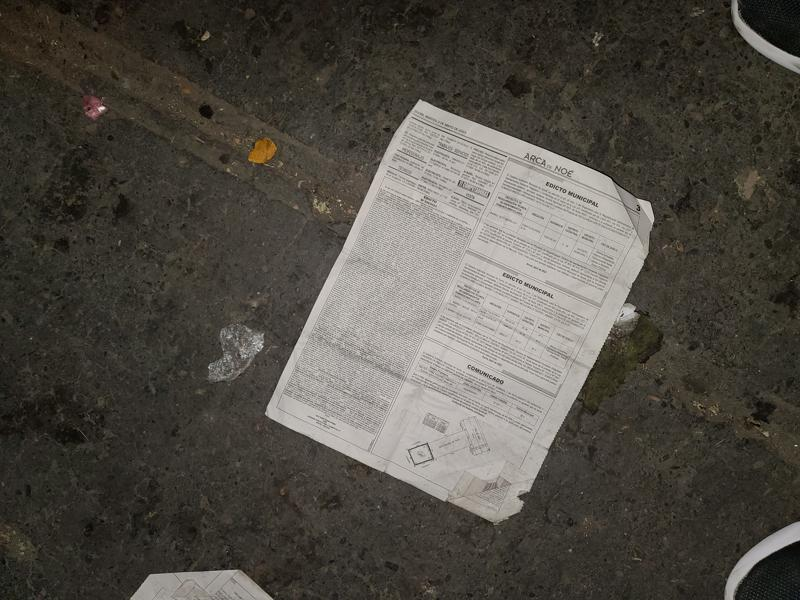papel: (264, 102, 656, 527)
